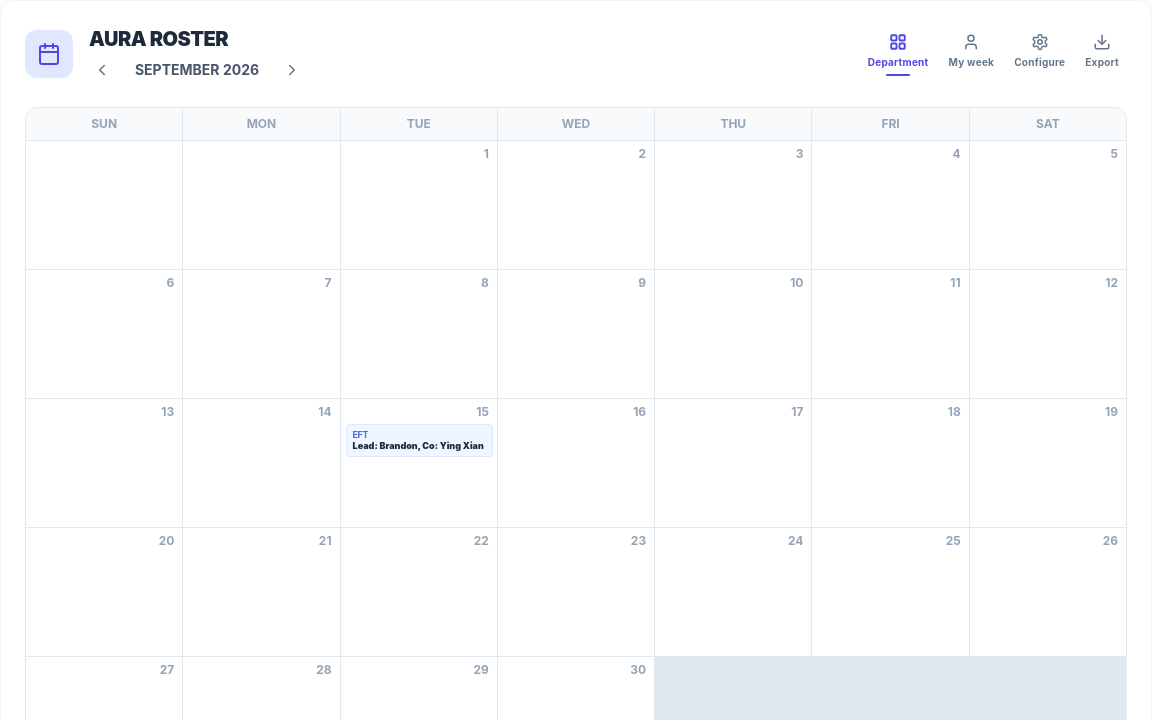
duplicate swap requests are refused (M12) › does not remember a request that failed to send — it stays retryable
Click the button "EFT Lead: Brandon, Co: Ying Xian" at (419, 440), box top-left (346, 424), bottom-right (493, 456)
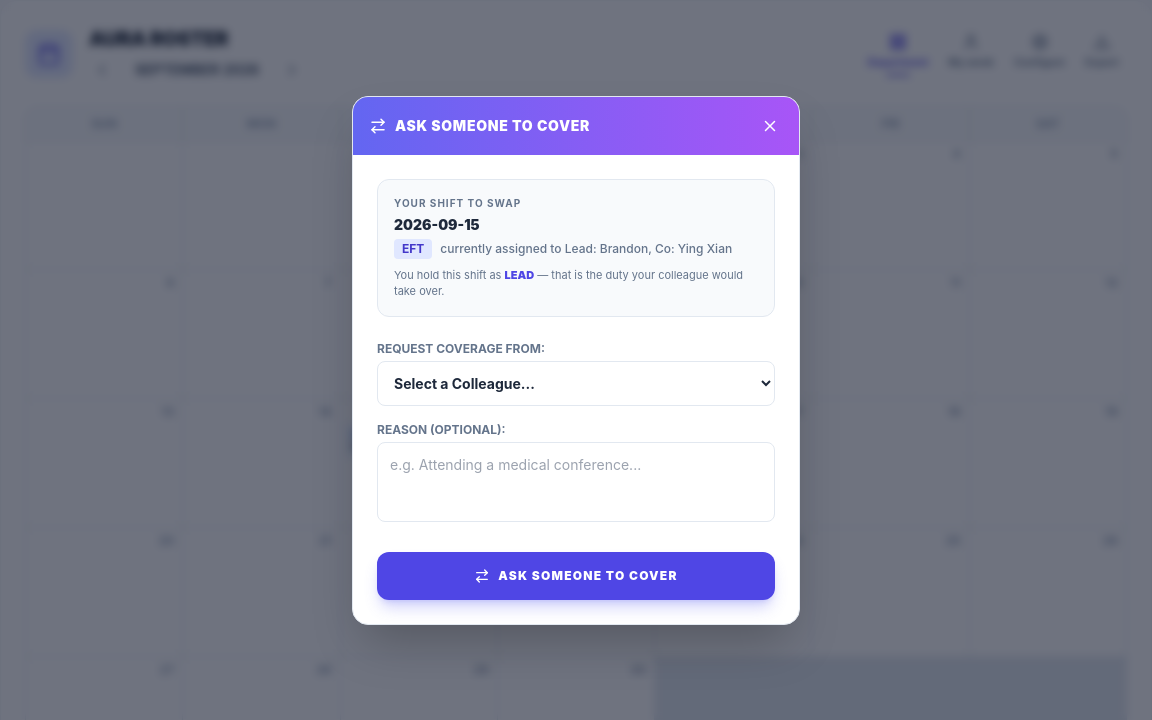
Select "Derlinder" in the dropdown at (576, 383), box top-left (377, 360), bottom-right (775, 406)
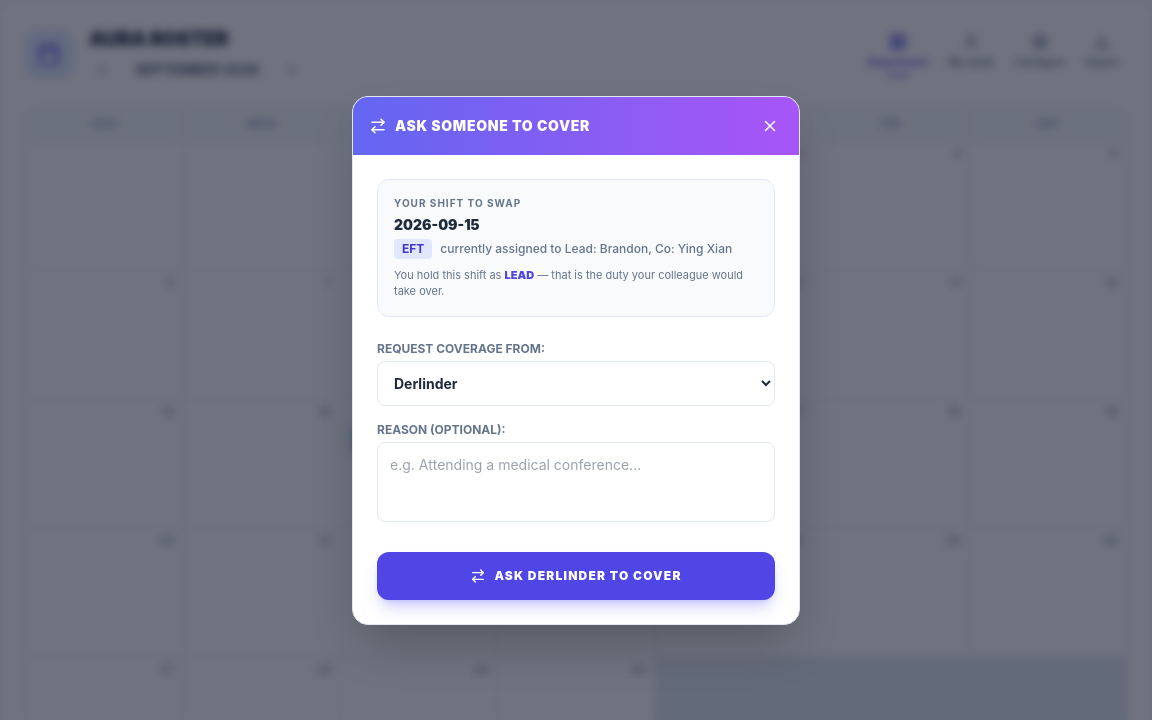
Click the button "Ask Derlinder to cover" at (576, 576), box top-left (377, 552), bottom-right (775, 600)
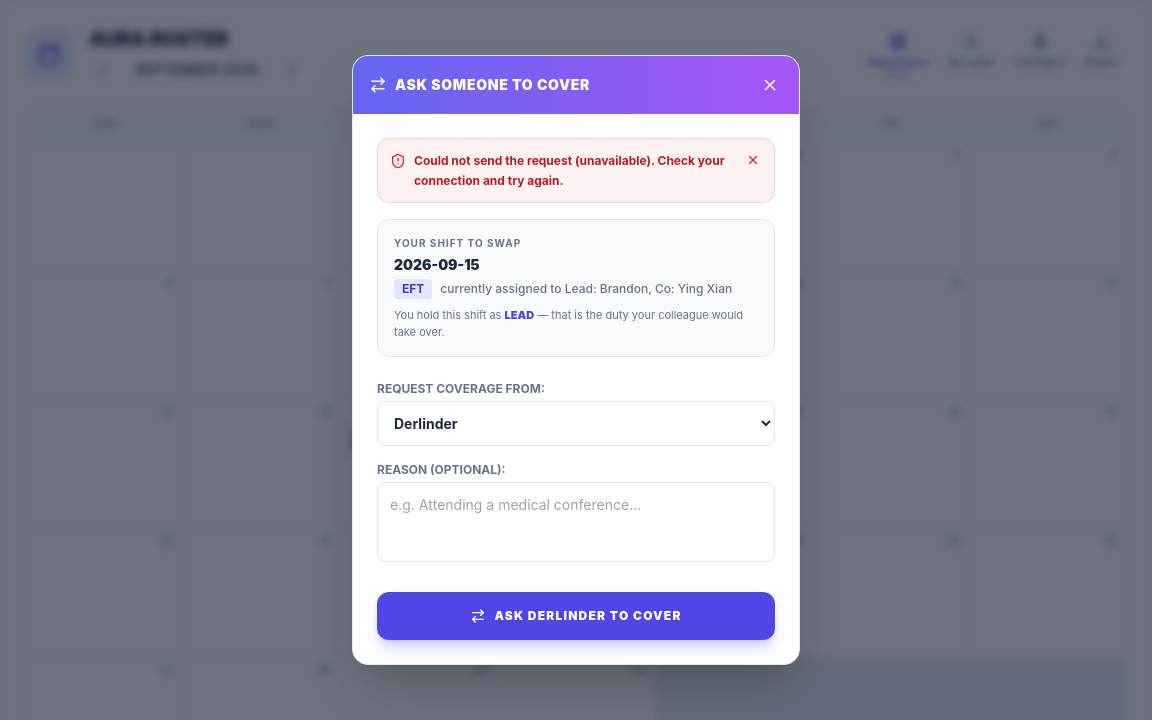
Expected: the text "Could not send the request" is shown, top-left (414, 153), bottom-right (725, 188)
Click the button "Ask Derlinder to cover" at (576, 616), box top-left (377, 592), bottom-right (775, 640)
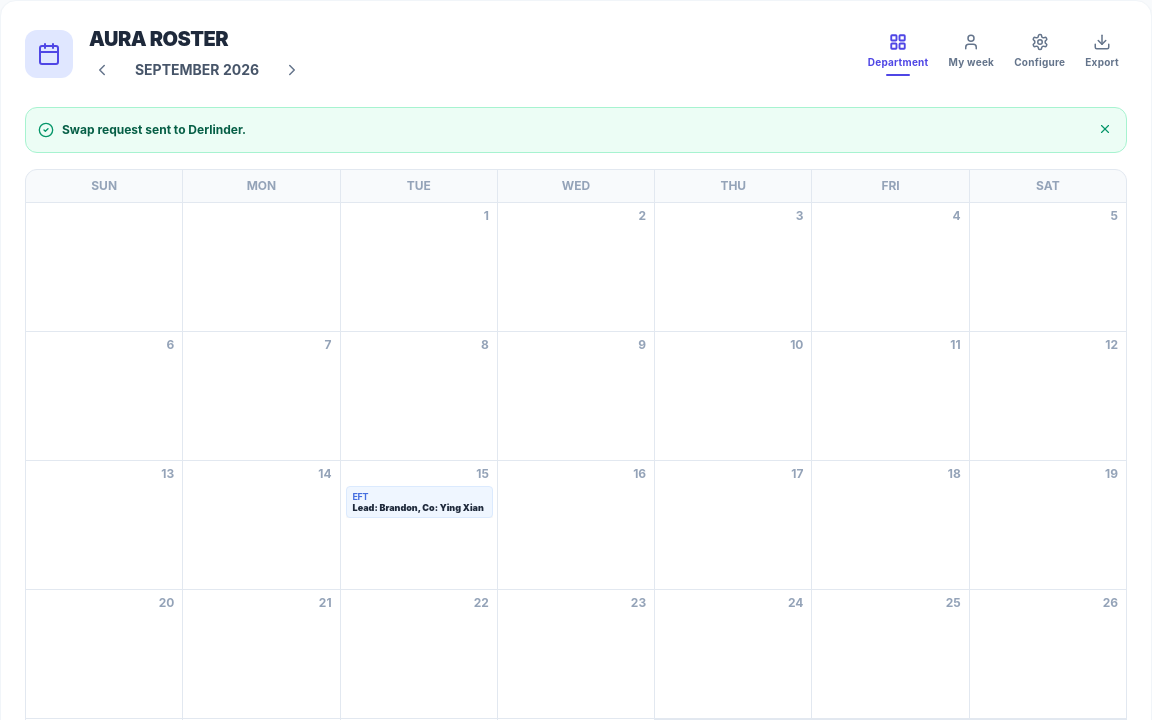
Expected: the text "Swap request sent to Derlinder." is shown, top-left (62, 122), bottom-right (246, 137)
